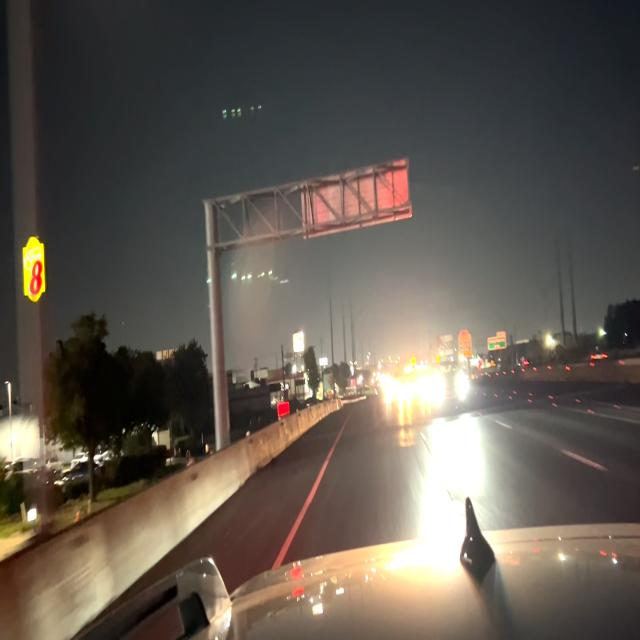back-of-sign: (298, 152, 413, 243)
